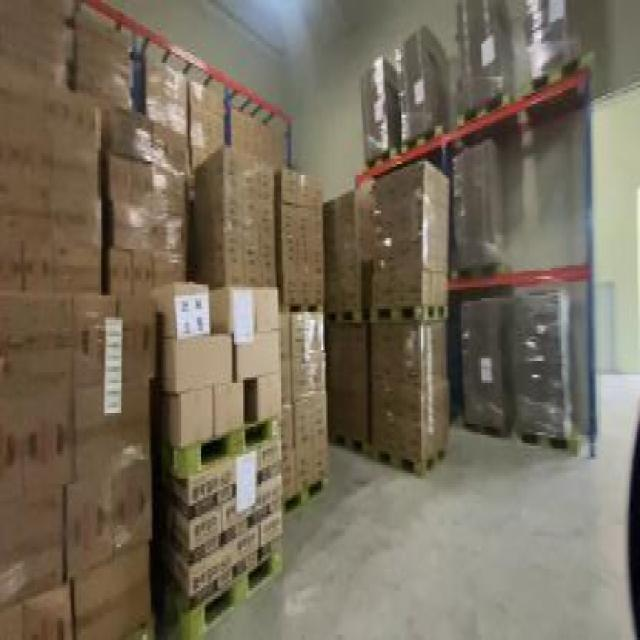box: (1, 8, 338, 632), (320, 175, 454, 479), (275, 156, 337, 506), (511, 287, 578, 449), (446, 3, 514, 123), (460, 295, 514, 443), (450, 150, 508, 276), (397, 25, 451, 145), (526, 2, 594, 76), (357, 52, 397, 167)
